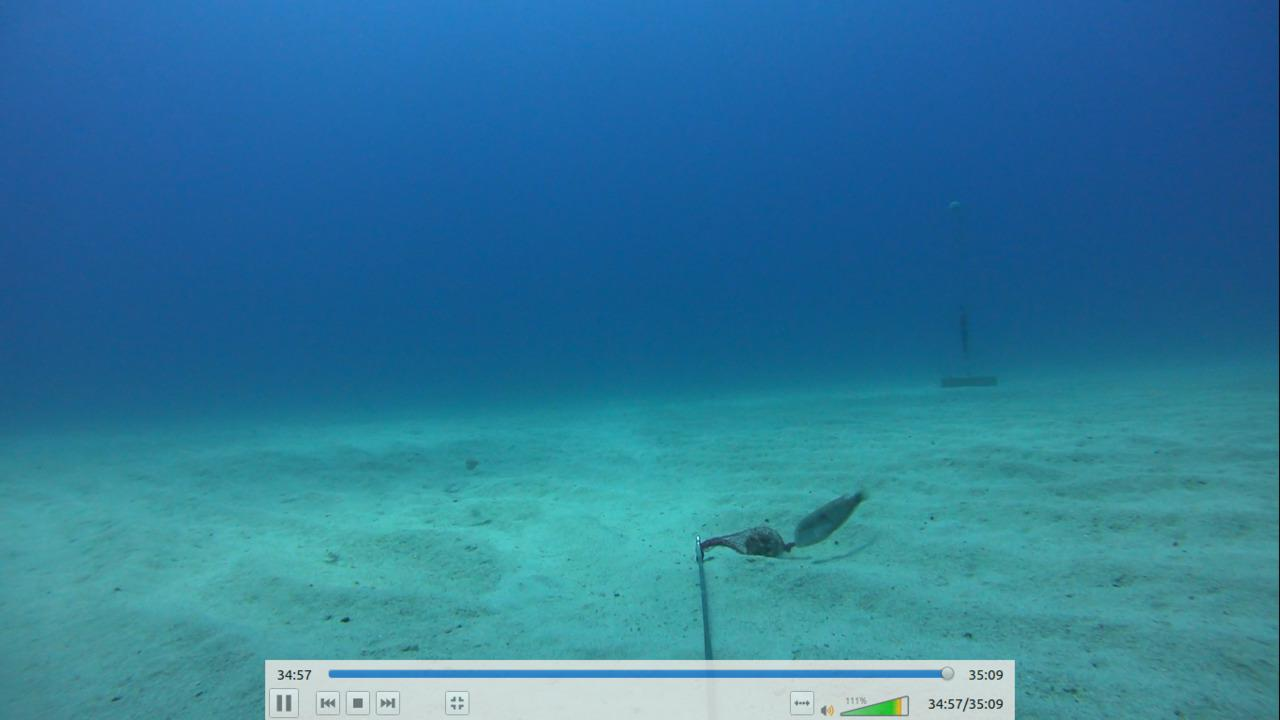raor: (791, 484, 871, 555)
